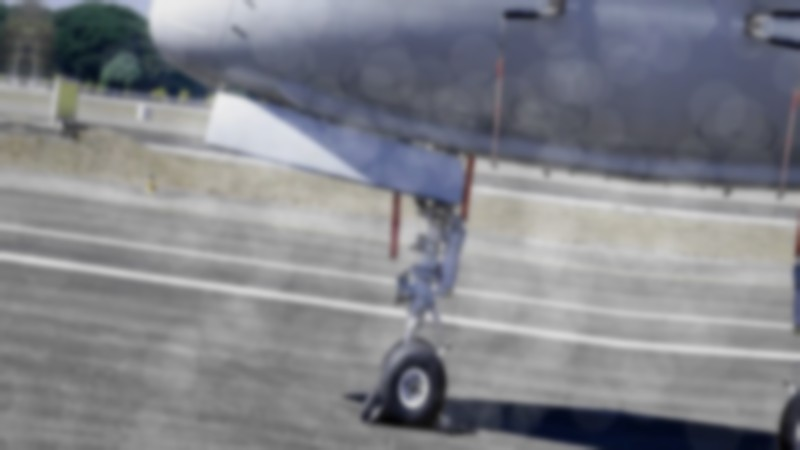chock: (356, 384, 389, 427), (432, 401, 463, 435), (758, 436, 789, 450)
wheel: (372, 331, 453, 433), (382, 332, 440, 375)
